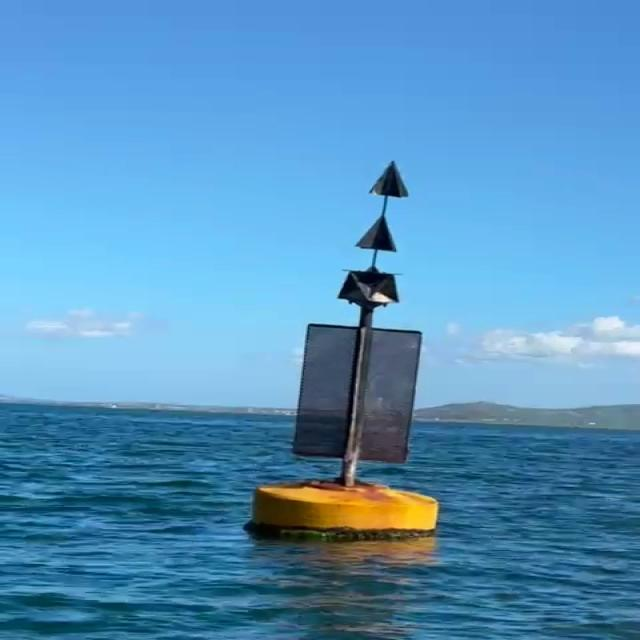marque: (254, 161, 441, 543)
